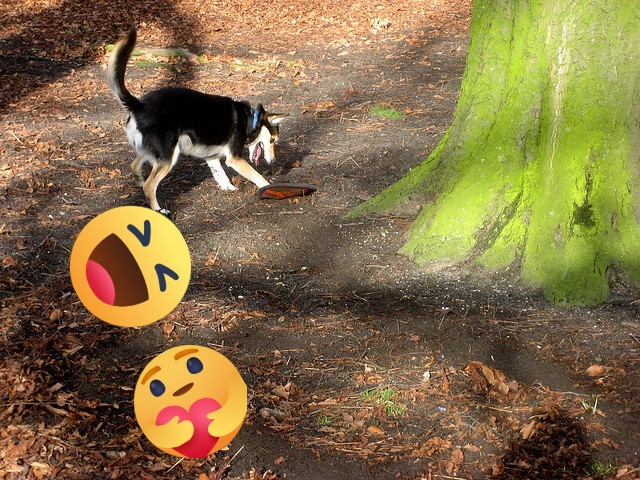care: (134, 345, 247, 458)
haha: (70, 206, 191, 327)
